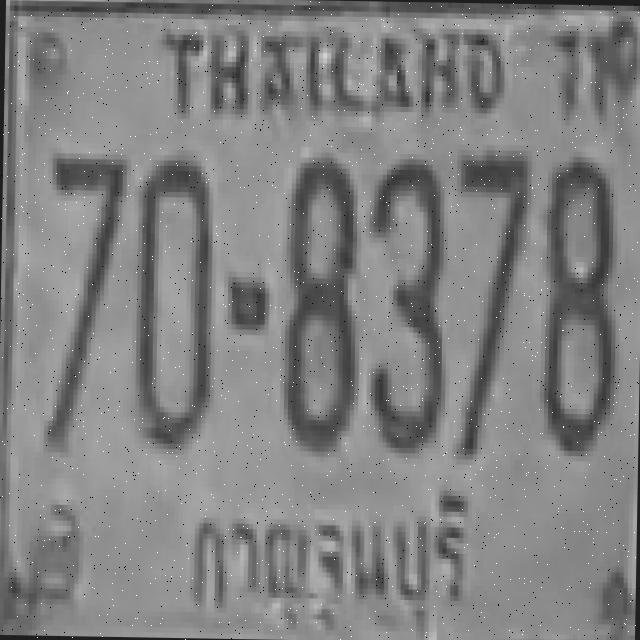0: (130, 157, 214, 447)
3: (365, 156, 445, 450)
7: (44, 150, 122, 414), (453, 146, 528, 358), (46, 150, 125, 351), (454, 149, 528, 334)
8: (538, 151, 618, 451), (278, 152, 358, 446)
Kanchanaburi: (180, 482, 488, 640)
